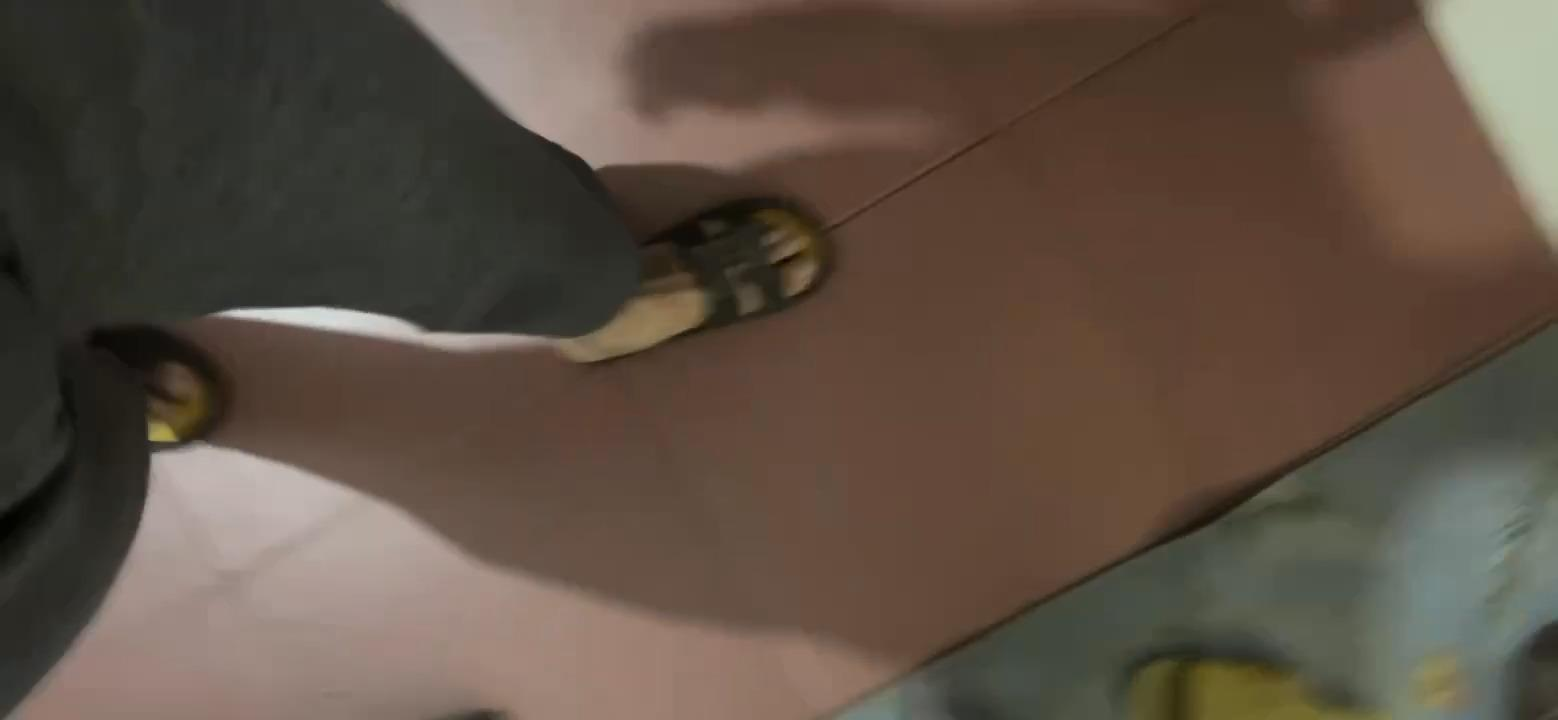no-boot: (575, 197, 829, 349)
